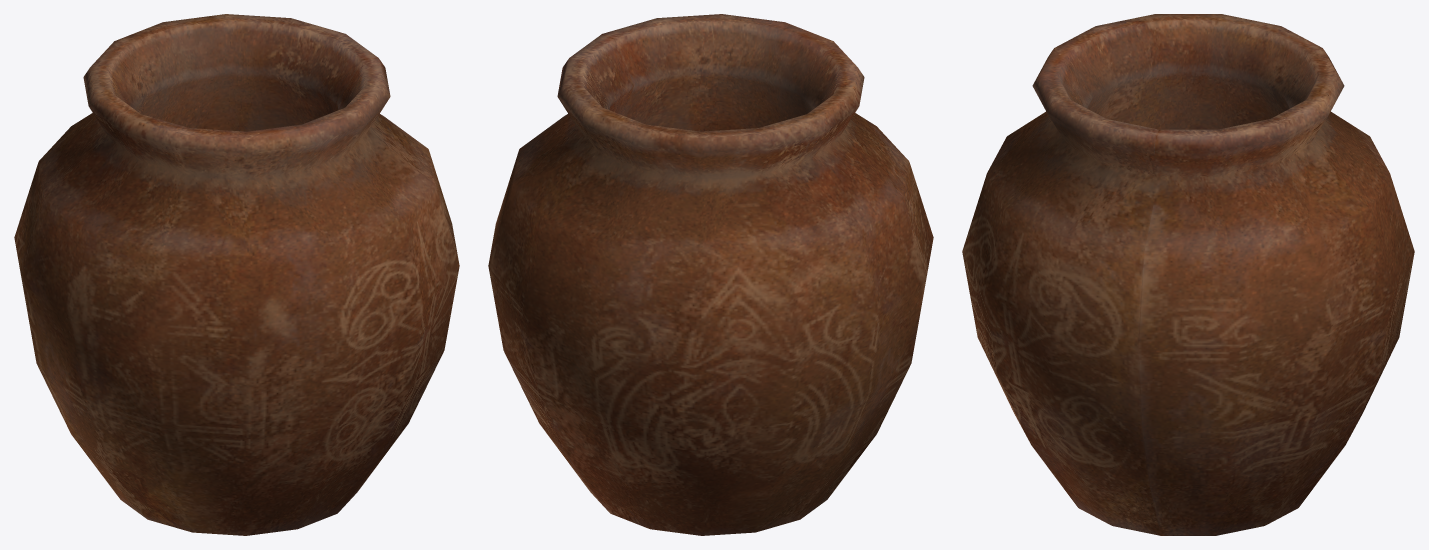
The model's file is SM_Pot_01.fbx.
3 views of the same model, side by side, from view 1: azimuth 30°, elevation 25°; view 2: azimuth 150°, elevation 25°; view 3: azimuth 270°, elevation 25° (orthographic).
Parts seen in each view (by area): view 1: SM_Pot_01_LOD0; view 2: SM_Pot_01_LOD0; view 3: SM_Pot_01_LOD0.
Boxes of the visible parts, bbox=[...] form: SM_Pot_01_LOD0: bbox=[14, 14, 459, 535]; SM_Pot_01_LOD0: bbox=[488, 14, 933, 535]; SM_Pot_01_LOD0: bbox=[962, 14, 1414, 535].
Size of the model in its own units: 58.34 by 59.84 by 59.84.
Materials: 1 (1 with a texture image).
